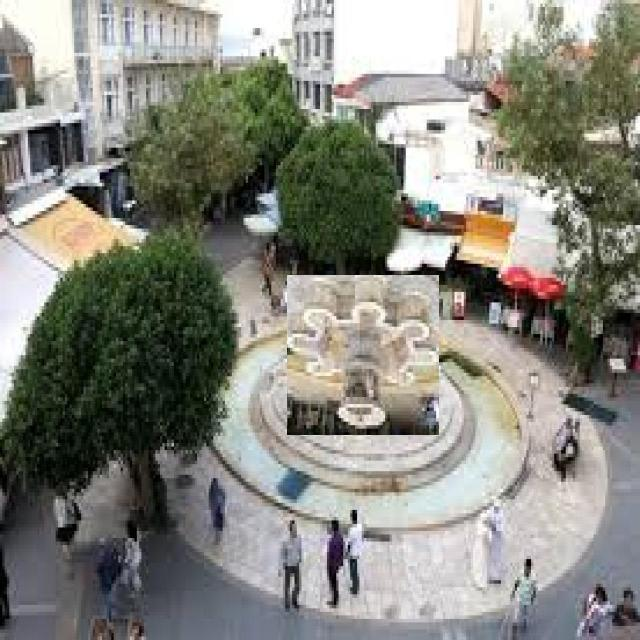Liontaria: (288, 276, 440, 436)
